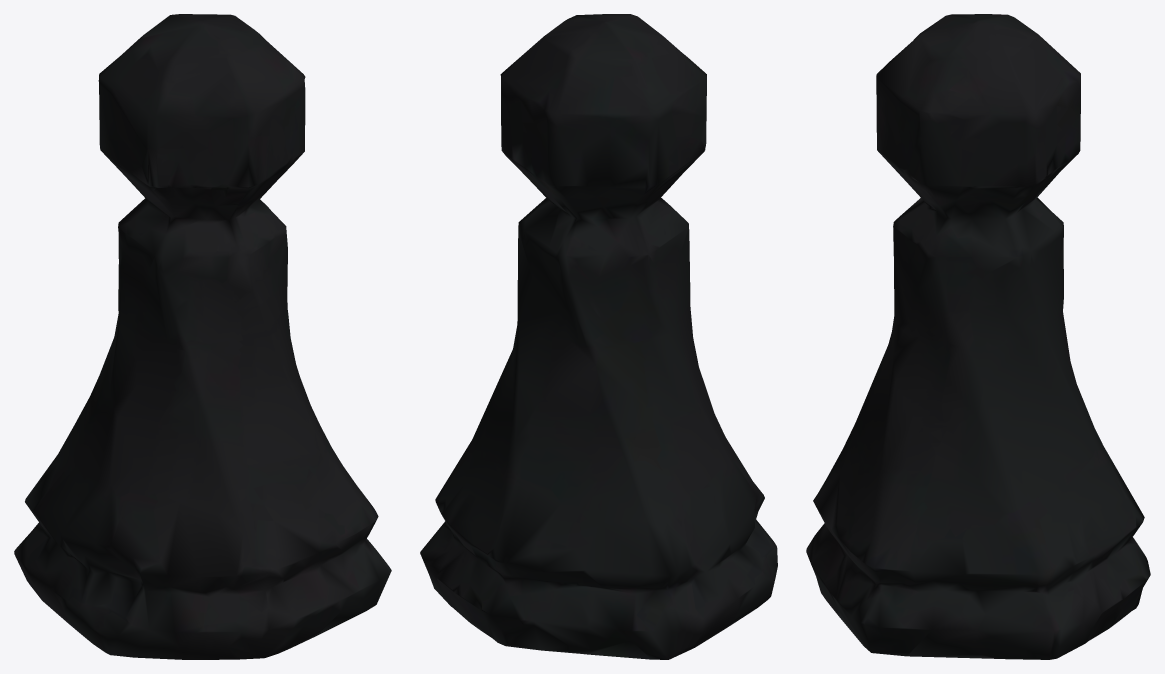
File: hexa_pawn_black.glb
3 views of the same model, side by side, from view 1: azimuth 30°, elevation 25°; view 2: azimuth 150°, elevation 25°; view 3: azimuth 270°, elevation 25° (orthographic).
Bounding box in the file's own units: 1.06 × 2 × 1.09.
1 material, 1 textured.
